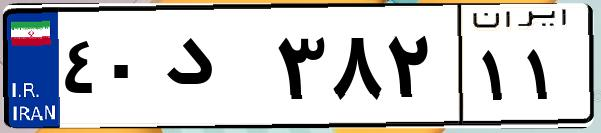0: (110, 28, 158, 98)
1: (475, 38, 525, 113), (525, 38, 570, 115)
2: (385, 28, 445, 110)
3: (270, 28, 330, 110)
4: (57, 26, 110, 100)
8: (330, 28, 385, 110)
د: (158, 20, 270, 120)
